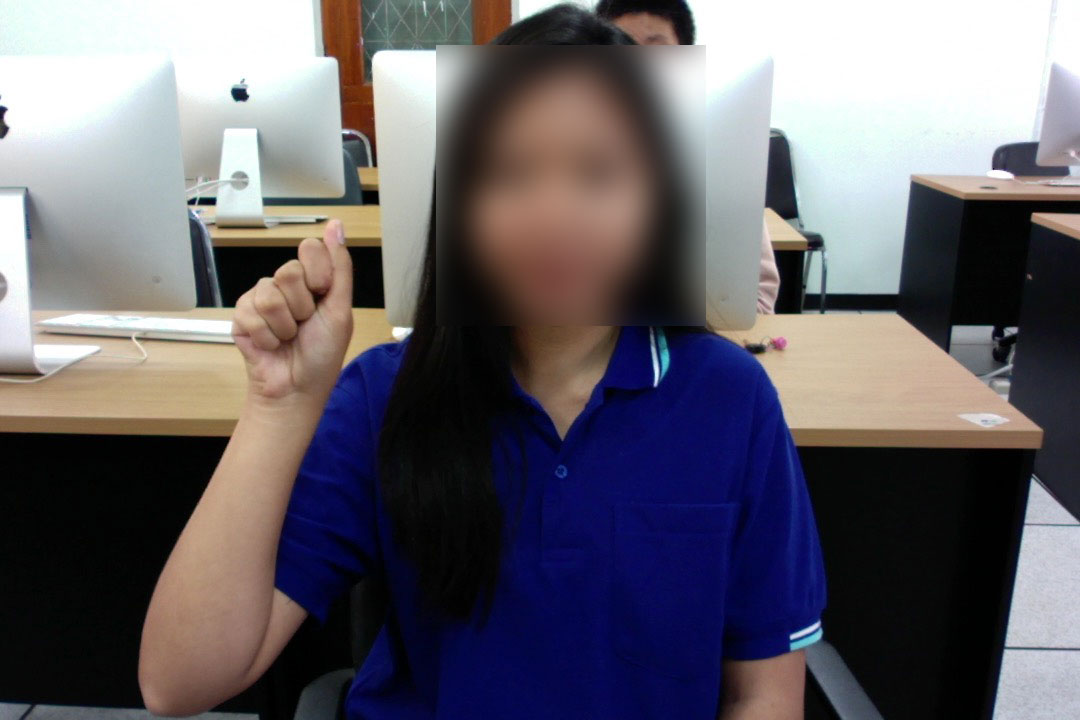or: (224, 209, 371, 417)
